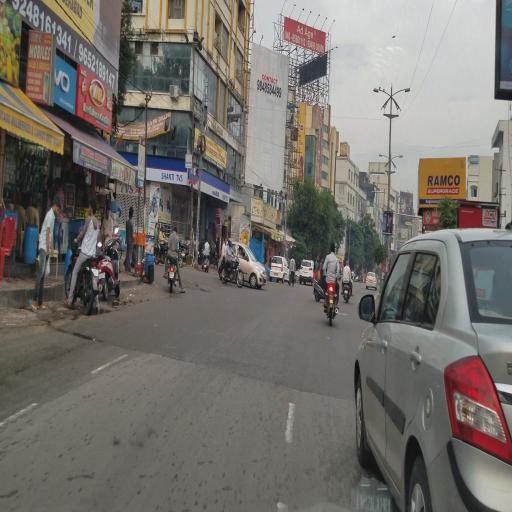street_light_0: (370, 80, 390, 108), (390, 83, 414, 105), (388, 148, 404, 168), (371, 148, 388, 164)
